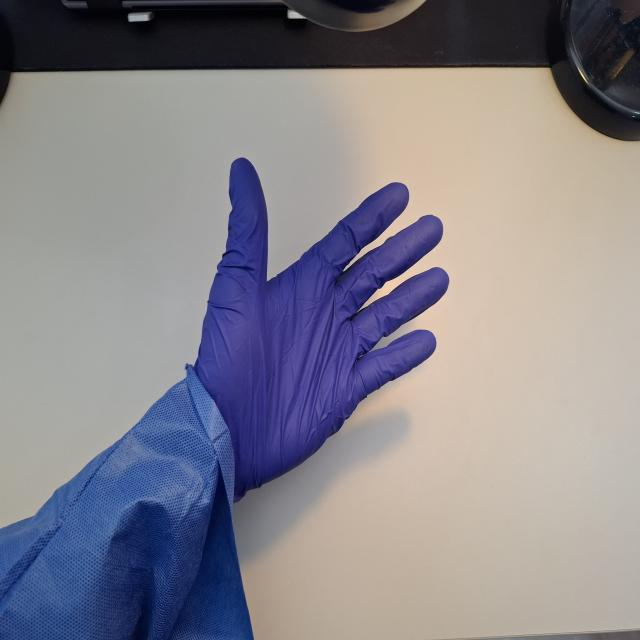glove_on: (189, 156, 451, 506)
